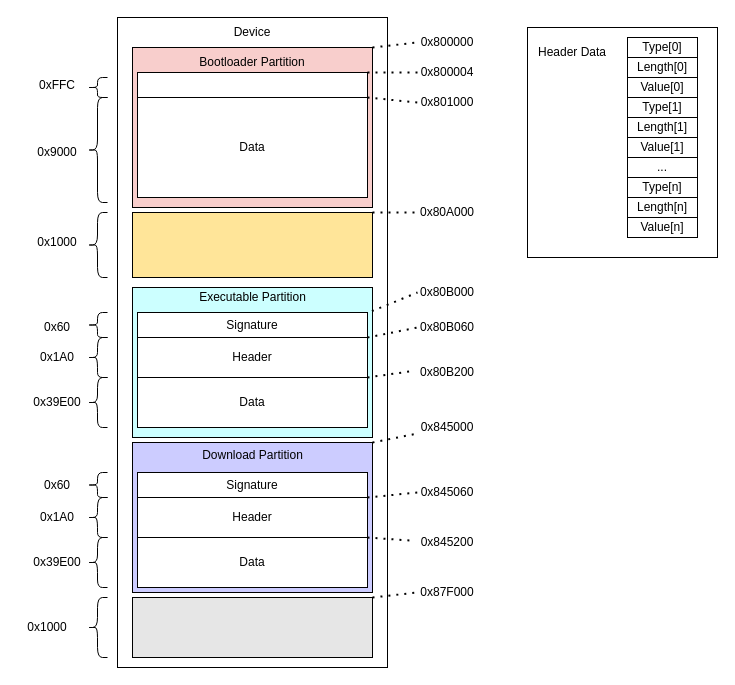
The diagram is 735 pixels wide and 685 high, and some of its shapes have lost their labels. The centre of each missing label's shape, as x and y in pixels:
"IVT" goes at (252,85).
"Keystore Partition" goes at (252,245).
"Unused" goes at (252,627).
